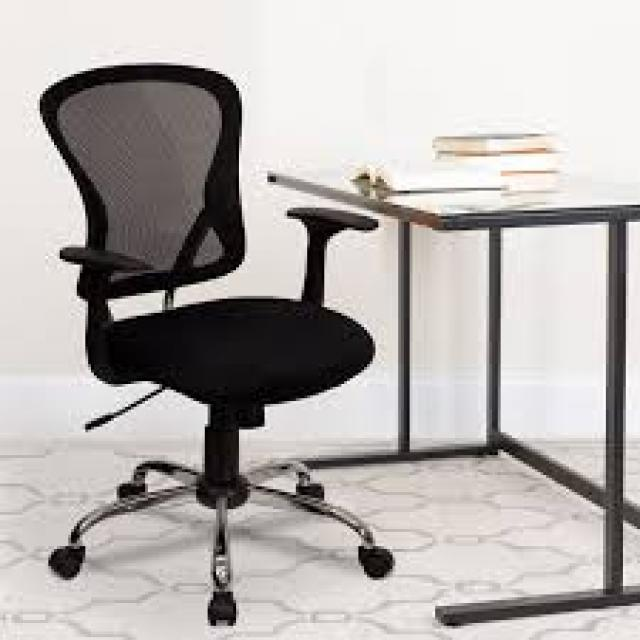chair: (26, 38, 418, 640)
